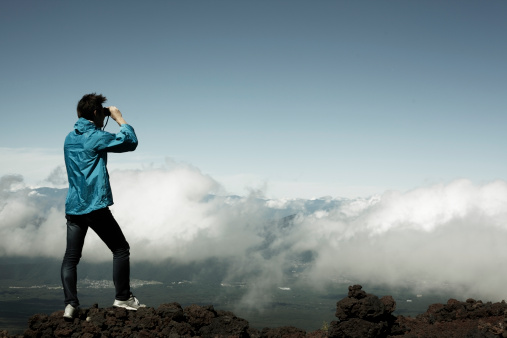em pe: (52, 74, 137, 312)
